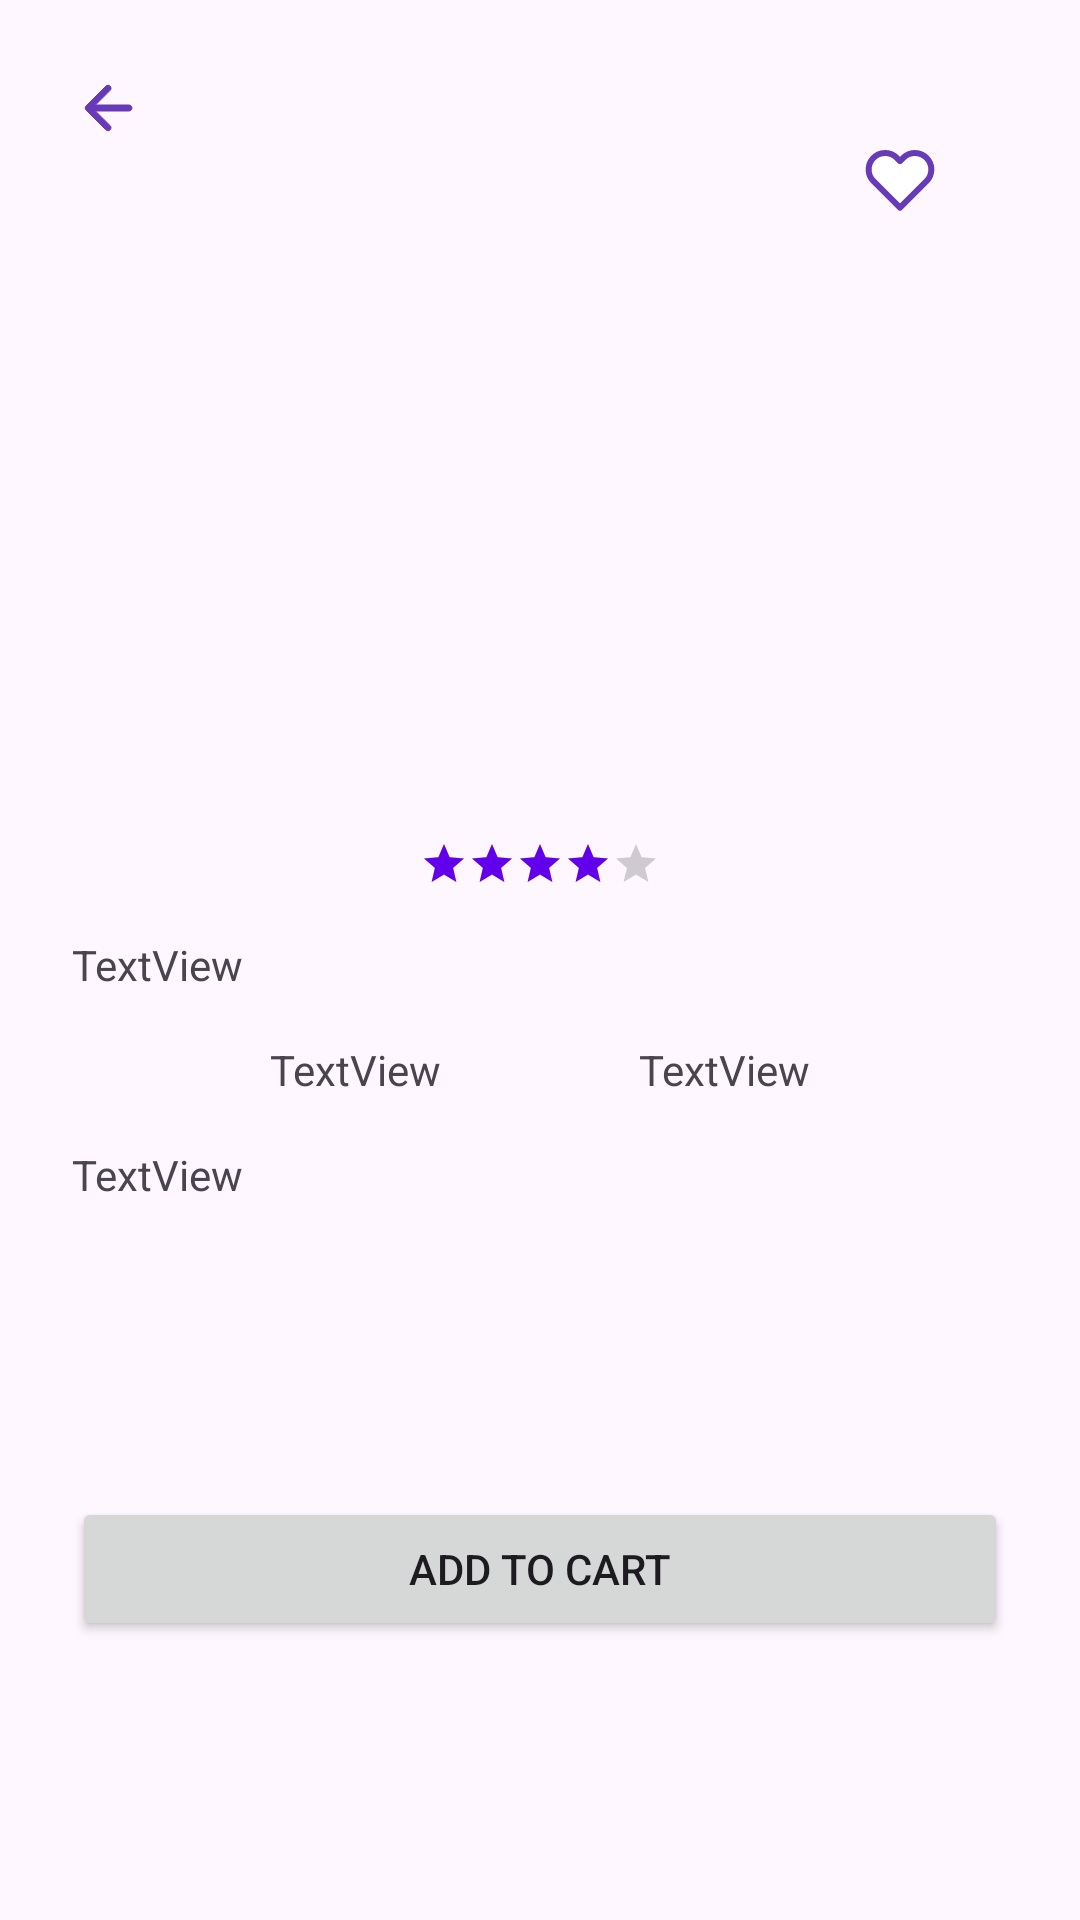

Locate icon controls on the screen. Image size 1080*1920, boxes as (x1, y1, x2, y2).
back arrow: (84, 84, 133, 132)
fav: (865, 150, 935, 211)
